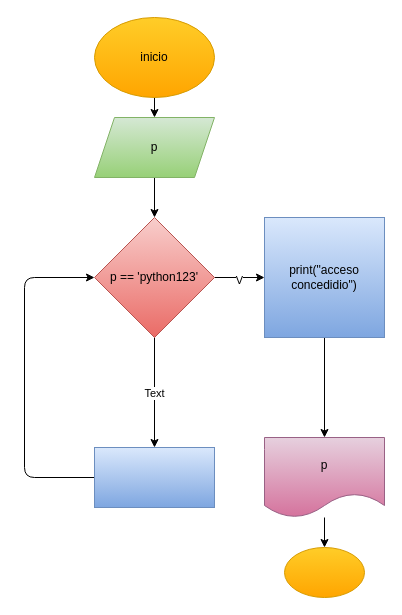
This 402x615 diagram has some shape labels left out. The centre of each missing label's shape, as x and y in pixels:
fin: (324,572)
print("error, vuelve a intentarlo"): (154,477)
